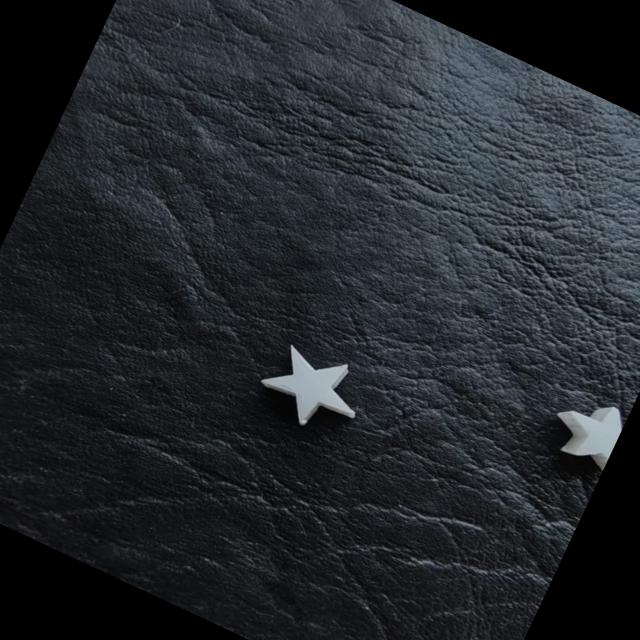estrellas: (264, 346, 353, 421)
